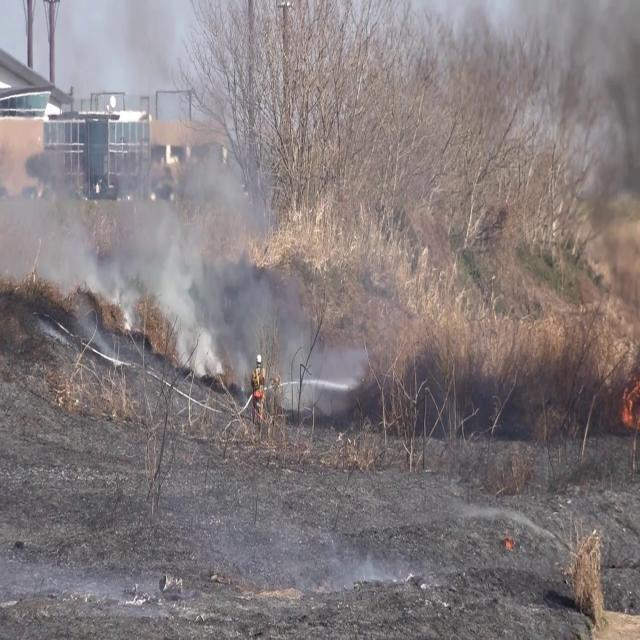Smoke: (0, 3, 274, 387)
